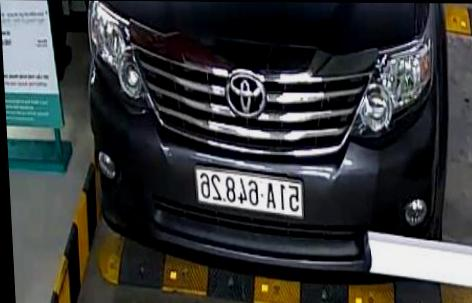License_Plate: (185, 165, 314, 219)
